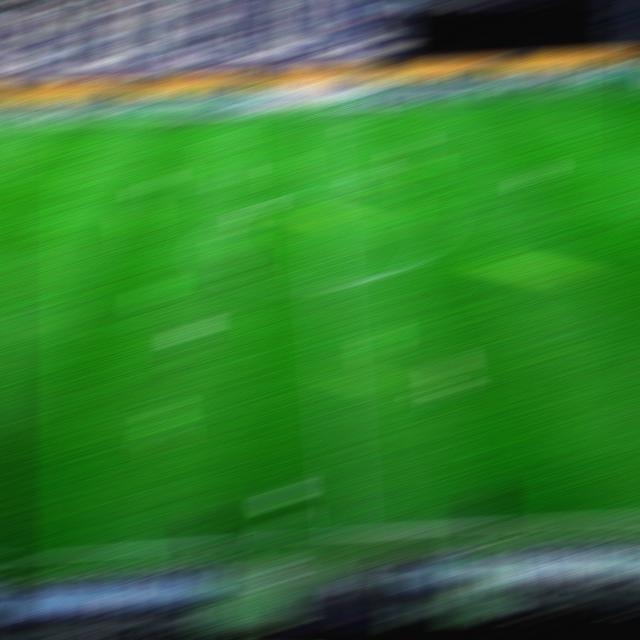halfcircle_bottom: (310, 281, 341, 289)
halfcircle_top: (304, 187, 334, 193)
midline_bottom_intersection: (329, 526, 361, 534)
midline_top_intersection: (298, 110, 329, 116)
